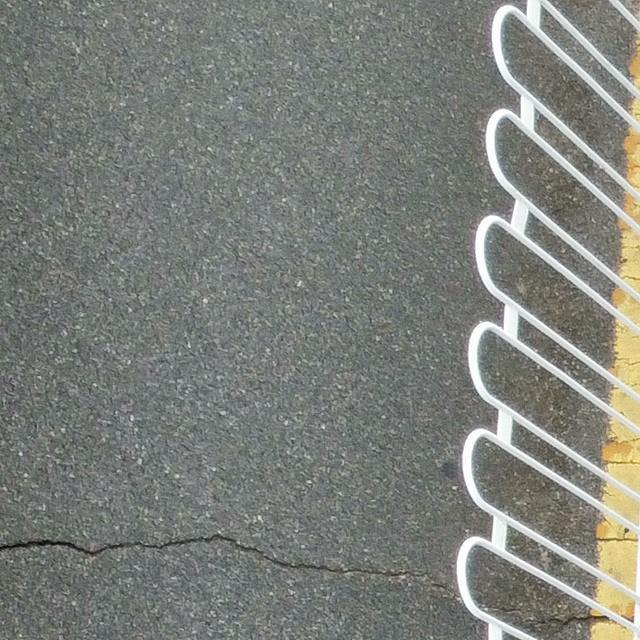TransverseCrack: (2, 532, 640, 640)
